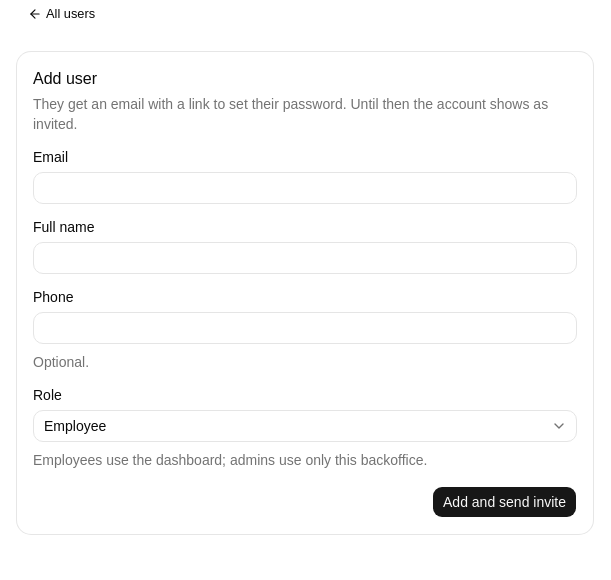
Test case: CreateUserPage › shows a taken email next to the field
The width and height of the screenshot is (611, 580).
Step 1. Type "budi@example.com" into the field labelled "Email" → [305, 188], box [33,172,577,204]
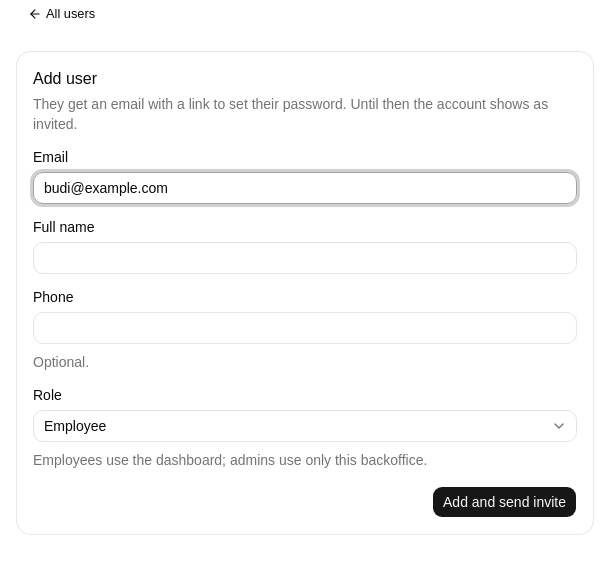
Step 2. Type "Budi Santoso" into the field labelled "Full name" → [305, 258], box [33,242,577,274]
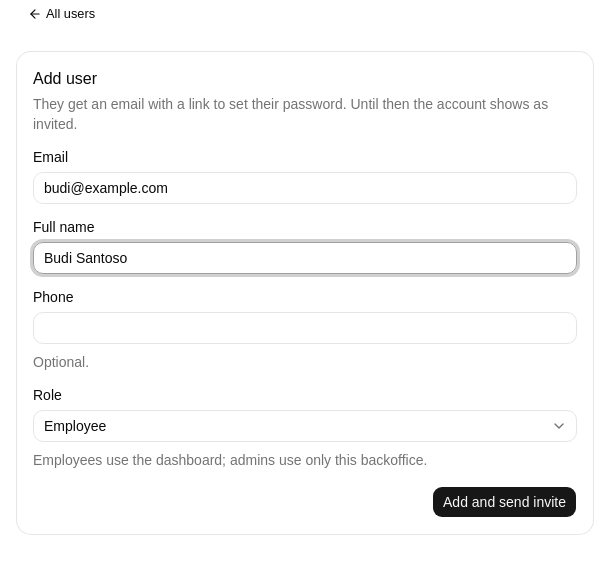
Step 3. Click the button "Add and send invite" → [504, 502], box [432,486,577,518]
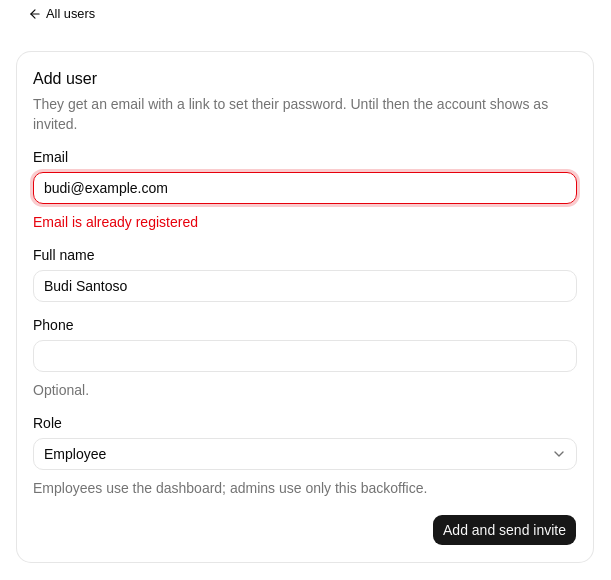
Check: the text "Email is already registered" is shown, box [33,214,198,230]
